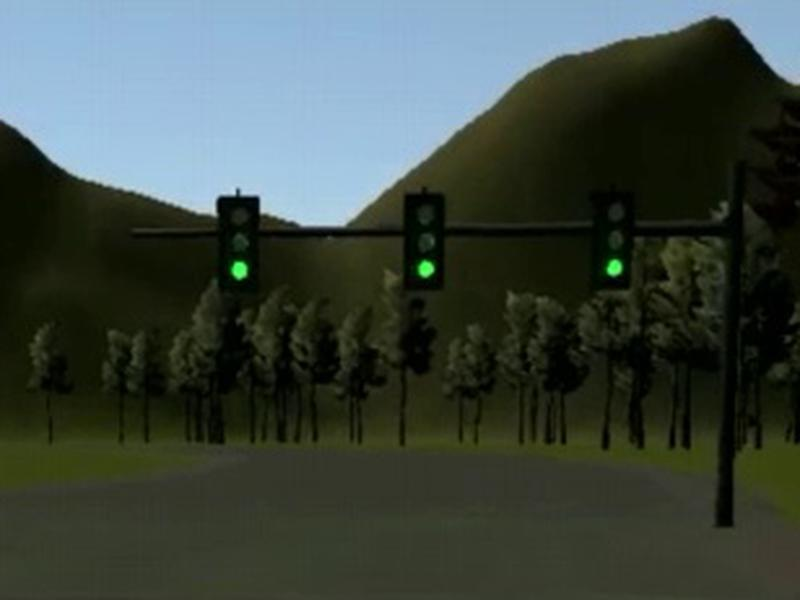Green: (590, 189, 634, 289), (216, 196, 260, 291), (404, 193, 445, 292)
